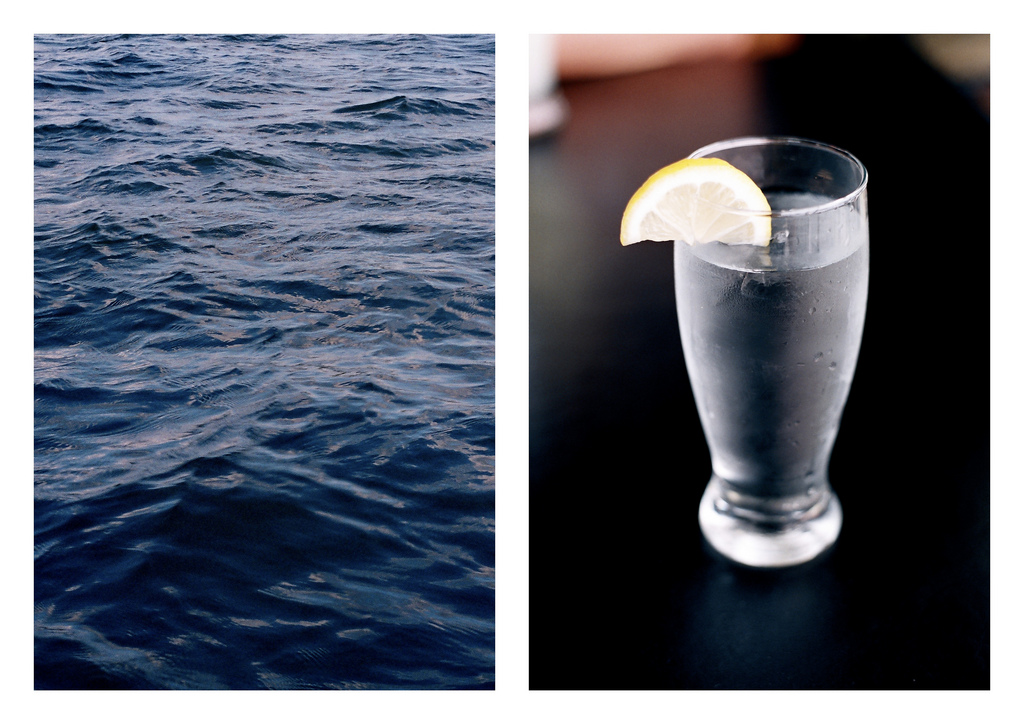glass of water: (643, 128, 869, 587)
